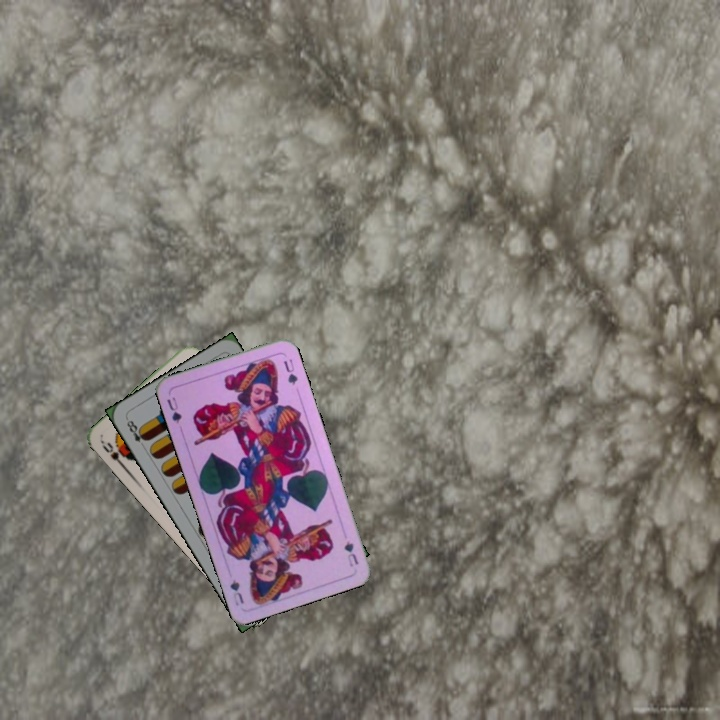E8: (122, 415, 150, 452)
GU: (163, 393, 185, 425), (340, 537, 361, 570)
SO: (97, 438, 132, 471)
